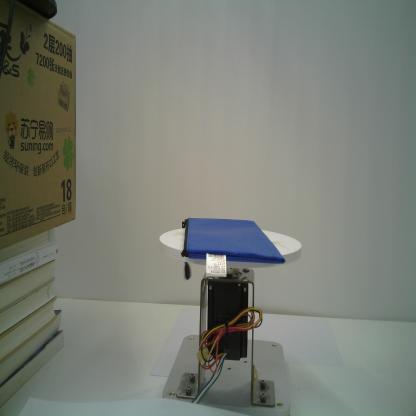Stationery: (180, 214, 288, 283)
